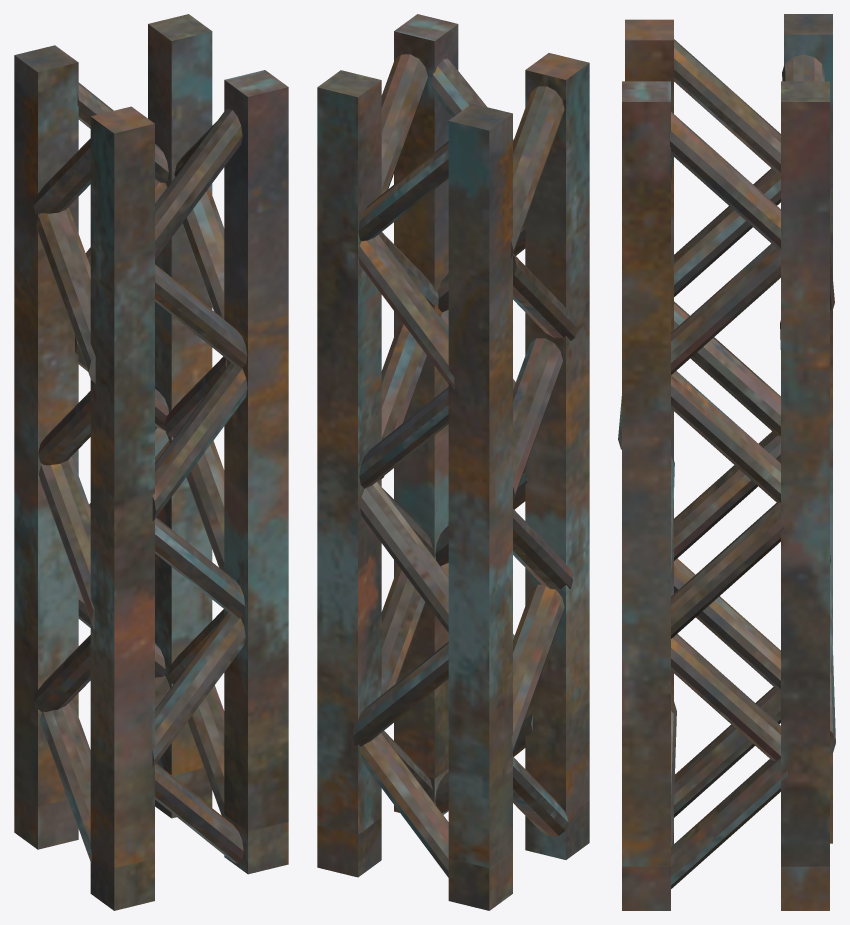
The model's file is metal scaffold.fbx.
3 views of the same model, side by side, from view 1: azimuth 30°, elevation 25°; view 2: azimuth 150°, elevation 25°; view 3: azimuth 270°, elevation 25° (orthographic). The views are drawn at different scales.
Parts seen in each view (by area): view 1: Node; view 2: Node; view 3: Node.
Part boxes in pixels (x1=…): Node: x1=14, y1=14, x2=288, y2=910; Node: x1=317, y1=14, x2=589, y2=910; Node: x1=618, y1=14, x2=835, y2=910.
Size of the model in its own units: 77.21 by 318 by 77.17.
